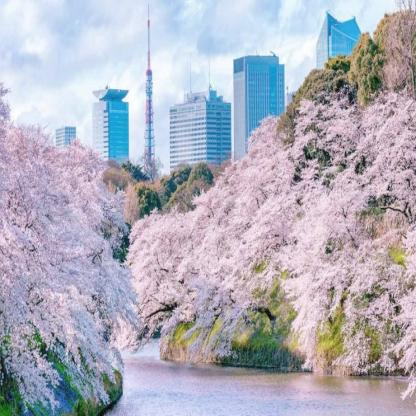Someiyoshino: (134, 88, 416, 393), (3, 124, 128, 405)
